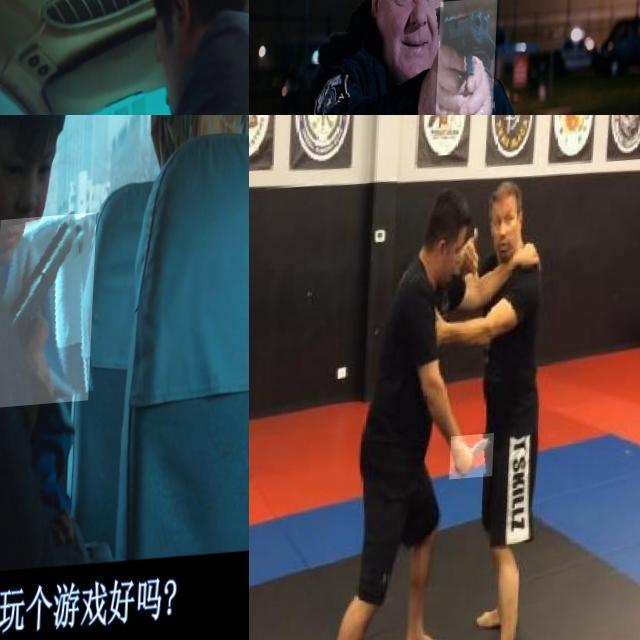-: (453, 441, 498, 486)
gun-knife-thesis - v11 Yolov5 augmented: (0, 218, 98, 412), (437, 3, 499, 115)
